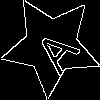A: (26, 21, 82, 76)
